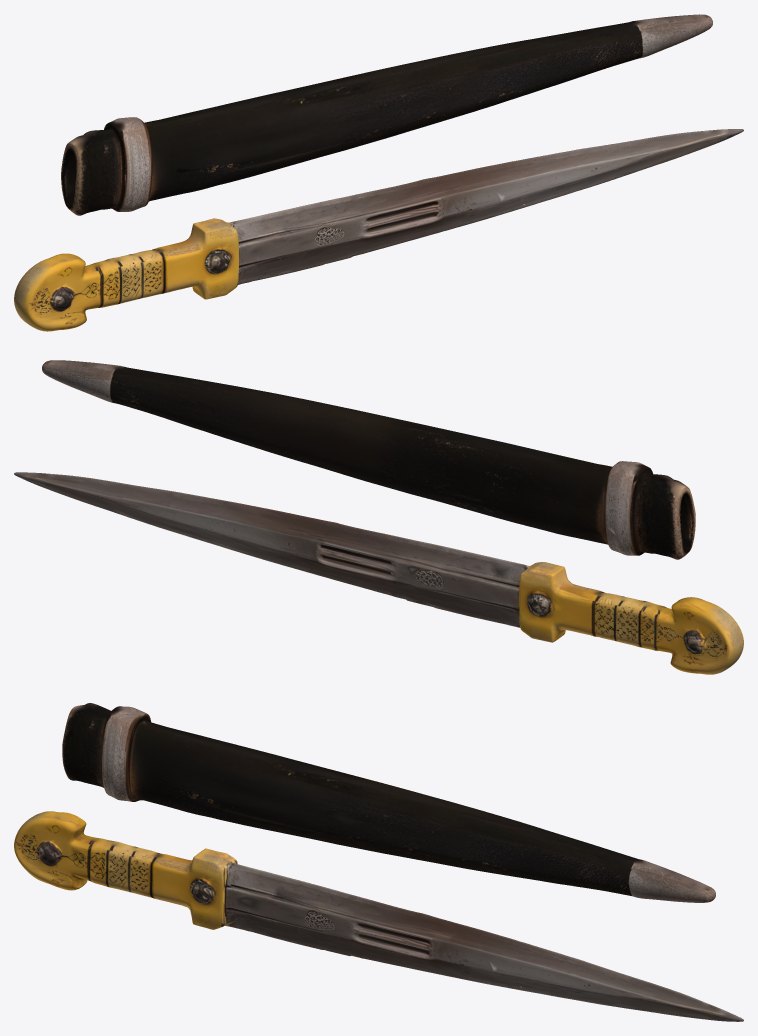
The model's file is 011-kinzhal-s-rukoyatyu-pod-kost.glb.
3 views of the same model, one above another, from view 1: azimuth 30°, elevation 25°; view 2: azimuth 150°, elevation 25°; view 3: azimuth 330°, elevation 25° (orthographic).
Visible parts, largest first — view 1: node_0; view 2: node_0; view 3: node_0.
Boxes of the visible parts, <box> form: node_0: <box>14,14,743,331</box>; node_0: <box>14,360,743,674</box>; node_0: <box>14,703,743,1021</box>.
Bounding box in the file's own units: 1.18 × 0.3003 × 0.0785.
Materials: 1 (1 with a texture image).
